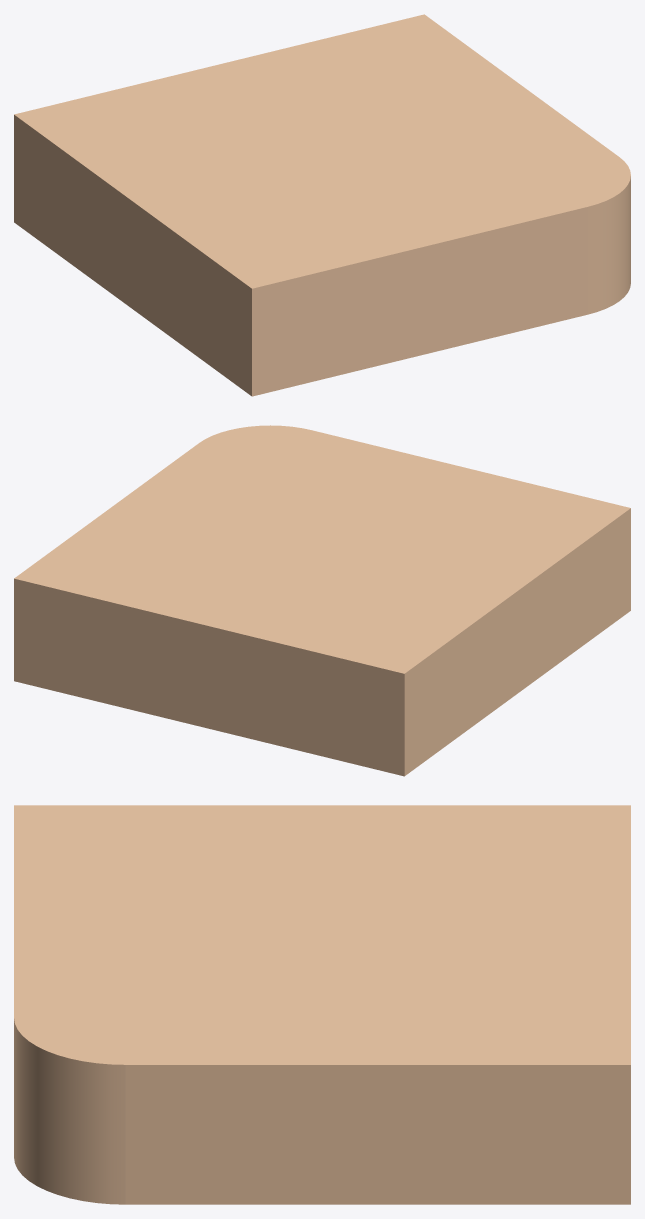
Rendered from floorCornerRound-col.glb.
3 views of the same model, one above another, from view 1: azimuth 30°, elevation 25°; view 2: azimuth 150°, elevation 25°; view 3: azimuth 270°, elevation 25° (orthographic). The views are drawn at different scales.
Visible parts, largest first — view 1: floorCornerRound-col; view 2: floorCornerRound-col; view 3: floorCornerRound-col.
Boxes of the visible parts, left/top/right/bottom form: floorCornerRound-col: left=14, top=14, right=630, bottom=396; floorCornerRound-col: left=14, top=425, right=630, bottom=776; floorCornerRound-col: left=14, top=805, right=630, bottom=1204.
Size of the model in its own units: 0.9955 by 0.25 by 1.
